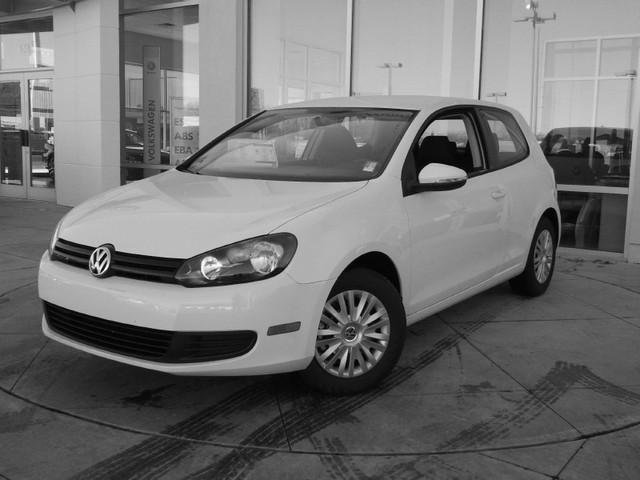car: (35, 96, 563, 395)
